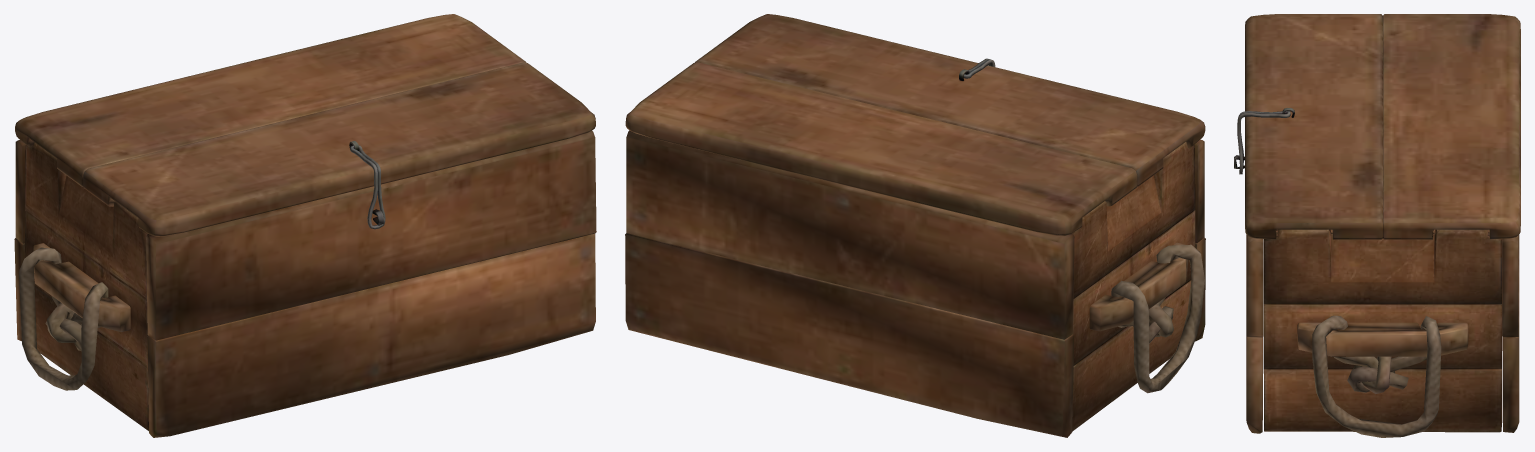
File: crate.glb
3 views of the same model, side by side, from view 1: azimuth 30°, elevation 25°; view 2: azimuth 150°, elevation 25°; view 3: azimuth 270°, elevation 25° (orthographic). The views are drawn at different scales.
Visible parts, largest first — view 1: wooden_crate_01, wooden_crate_01_lid, wooden_crate_01_latch; view 2: wooden_crate_01, wooden_crate_01_lid; view 3: wooden_crate_01_lid, wooden_crate_01, wooden_crate_01_latch.
Part boxes in pixels (box(x1,y1,x2,y2)): wooden_crate_01: box(14, 131, 596, 437); wooden_crate_01_lid: box(15, 14, 595, 236); wooden_crate_01_latch: box(350, 145, 385, 229); wooden_crate_01: box(625, 130, 1205, 437); wooden_crate_01_lid: box(625, 14, 1205, 236); wooden_crate_01_lid: box(1245, 14, 1520, 239); wooden_crate_01: box(1234, 155, 1519, 437); wooden_crate_01_latch: box(1237, 111, 1290, 174).
Bounding box in the file's own units: 0.8245 × 0.3479 × 0.4077.
Materials: 1 (1 with a texture image).
